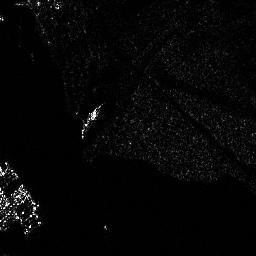ship: (80, 103, 105, 139)
